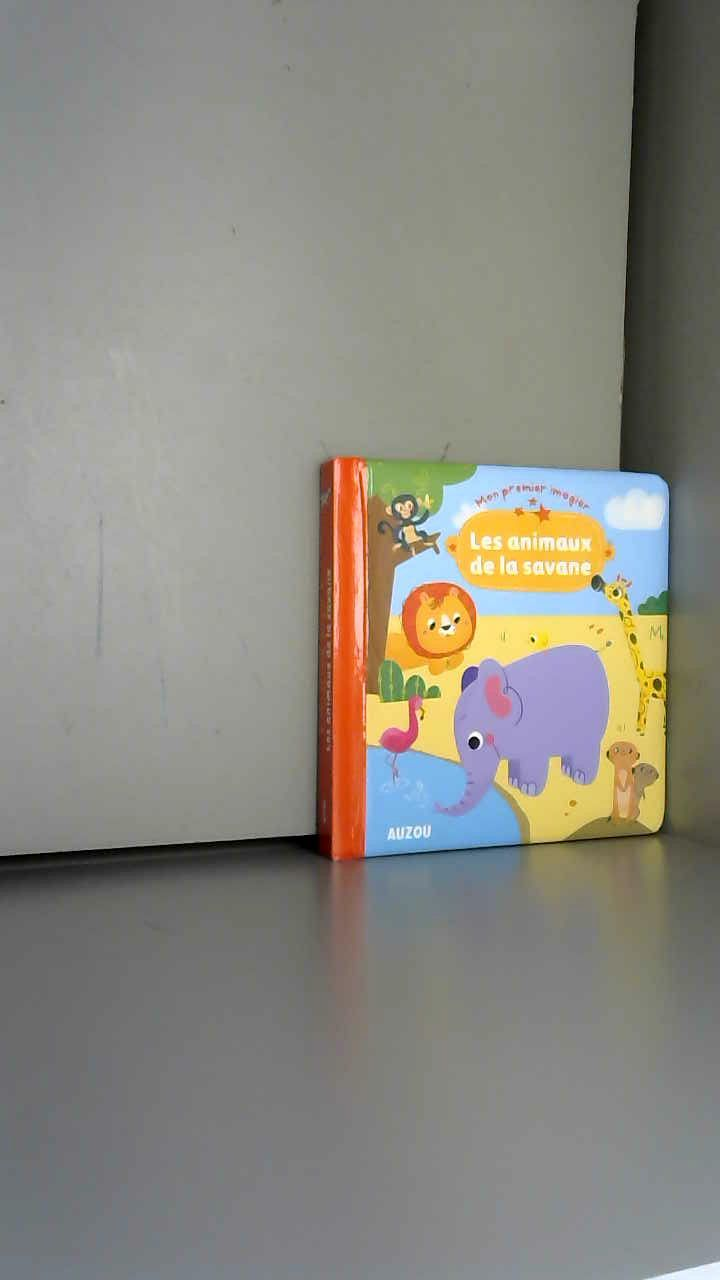book: (290, 430, 720, 940)
